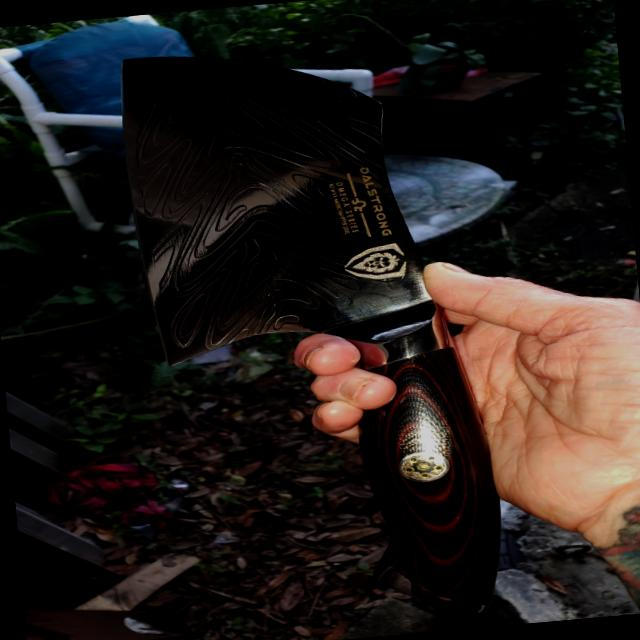cleaver: (115, 14, 640, 626)
